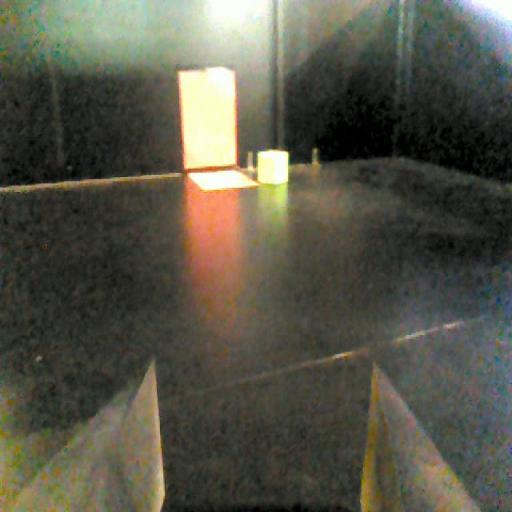cube: (254, 144, 291, 186)
